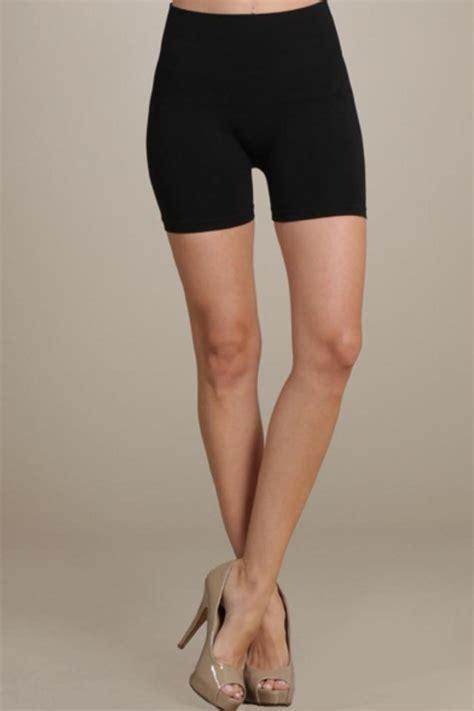short: (146, 0, 368, 233)
